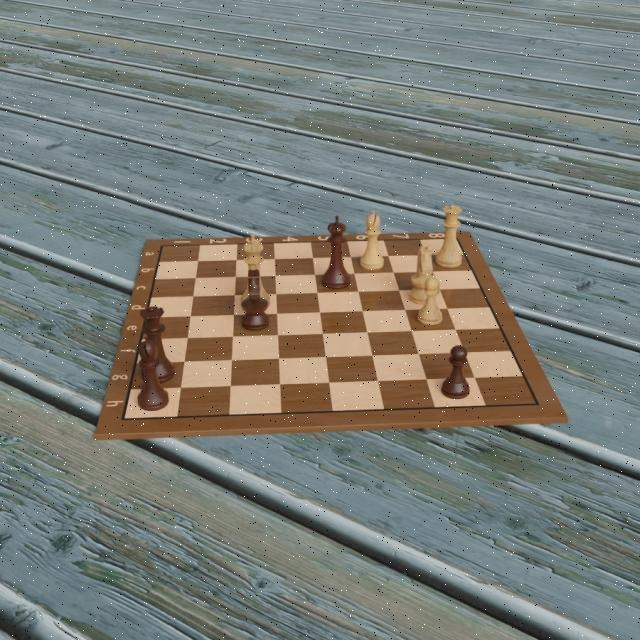black-bishop: (136, 335, 171, 413)
black-king: (320, 213, 351, 290)
black-knight: (238, 267, 272, 333)
black-pawn: (439, 344, 472, 401)
black-queen: (136, 304, 175, 384)
white-bishop: (359, 211, 385, 273)
white-king: (239, 233, 272, 311)
white-knight: (408, 242, 440, 305)
white-pawn: (417, 274, 445, 328)
white-queen: (432, 201, 463, 271)
